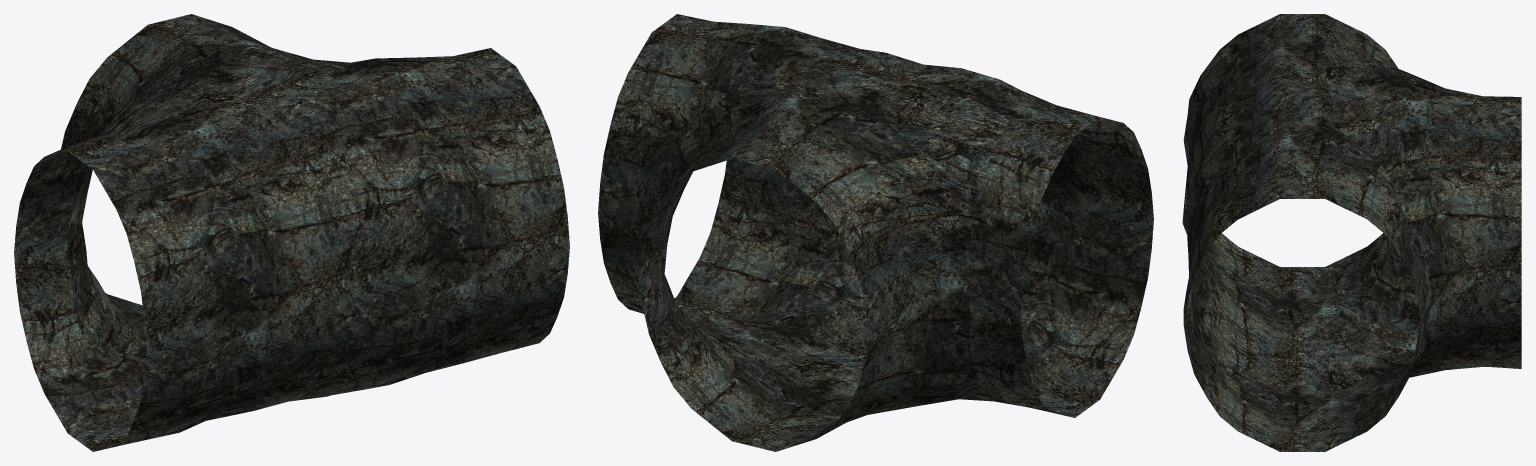
Rendered from tunnel_theta_3way.dae.
The picture shows the model from 3 angles, left to right: view 1: azimuth 30°, elevation 25°; view 2: azimuth 150°, elevation 25°; view 3: azimuth 270°, elevation 25°; orthographic projection. The views are drawn at different scales.
Visible parts, largest first — view 1: way_3; view 2: way_3; view 3: way_3.
Part boxes in pixels (left/top/right/bottom): way_3: left=14, top=14, right=569, bottom=451; way_3: left=598, top=14, right=1153, bottom=451; way_3: left=1182, top=14, right=1521, bottom=451.
Size of the model in its own units: 8 by 5.53 by 6.2.
